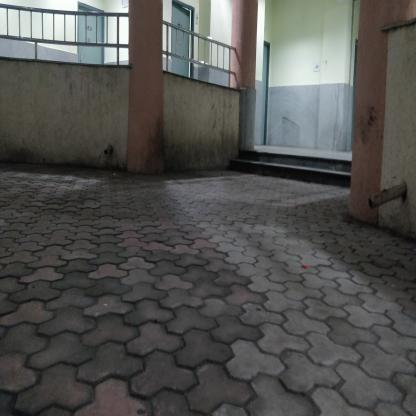stairs: (248, 152, 353, 185)
